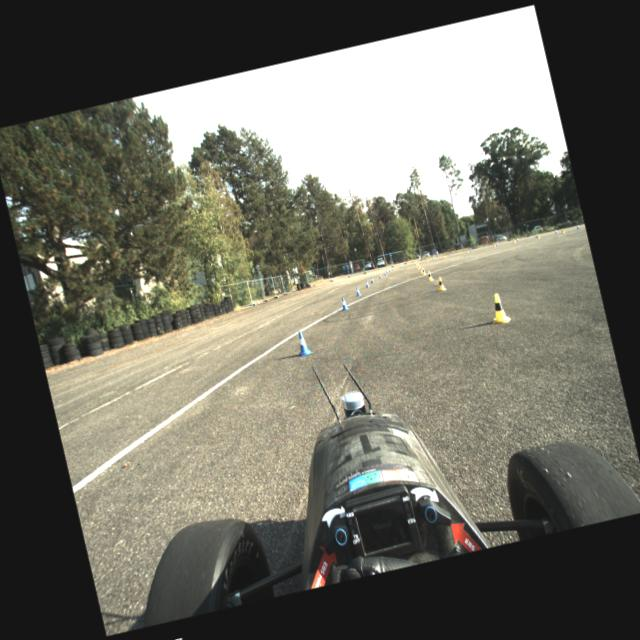blue_cone: (293, 329, 312, 356), (340, 296, 349, 310), (354, 286, 362, 296), (364, 279, 370, 287), (369, 276, 374, 282), (576, 223, 580, 229), (554, 228, 558, 234), (378, 273, 382, 278), (399, 264, 402, 268), (388, 268, 391, 272), (383, 271, 386, 275), (516, 237, 519, 241), (469, 248, 472, 251), (391, 266, 393, 270), (385, 269, 387, 273), (448, 252, 450, 256), (495, 242, 497, 246), (535, 233, 537, 237), (432, 256, 434, 259)
yellow_cone: (486, 292, 511, 326), (434, 276, 446, 292), (426, 269, 434, 281), (420, 267, 426, 275), (560, 227, 565, 233), (418, 266, 422, 273), (536, 233, 540, 238), (512, 238, 516, 243), (492, 242, 496, 247), (416, 264, 419, 270), (426, 257, 429, 261), (415, 263, 417, 268), (466, 248, 468, 252), (443, 254, 445, 258), (416, 260, 418, 264)
